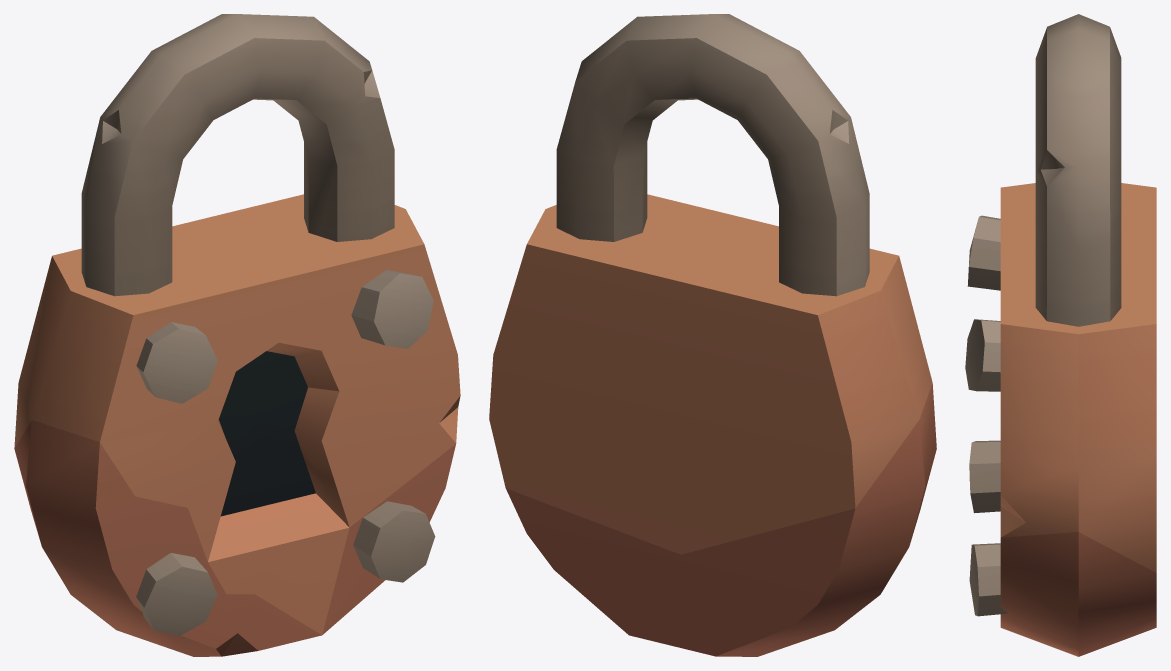
File: lock_A.gltf
3 views of the same model, side by side, from view 1: azimuth 30°, elevation 25°; view 2: azimuth 150°, elevation 25°; view 3: azimuth 270°, elevation 25° (orthographic). The views are drawn at different scales.
Visible parts, largest first — view 1: lock_A, lock_A_part; view 2: lock_A, lock_A_part; view 3: lock_A, lock_A_part.
Boxes of the visible parts, <box> form: lock_A: <box>14,194,460,656</box>; lock_A_part: <box>81,14,394,296</box>; lock_A: <box>489,194,936,656</box>; lock_A_part: <box>556,14,869,296</box>; lock_A: <box>965,183,1156,656</box>; lock_A_part: <box>1035,14,1121,326</box>.
Bounding box in the file's own units: 0.5963 × 0.8485 × 0.2426.
1 material, 1 textured.
